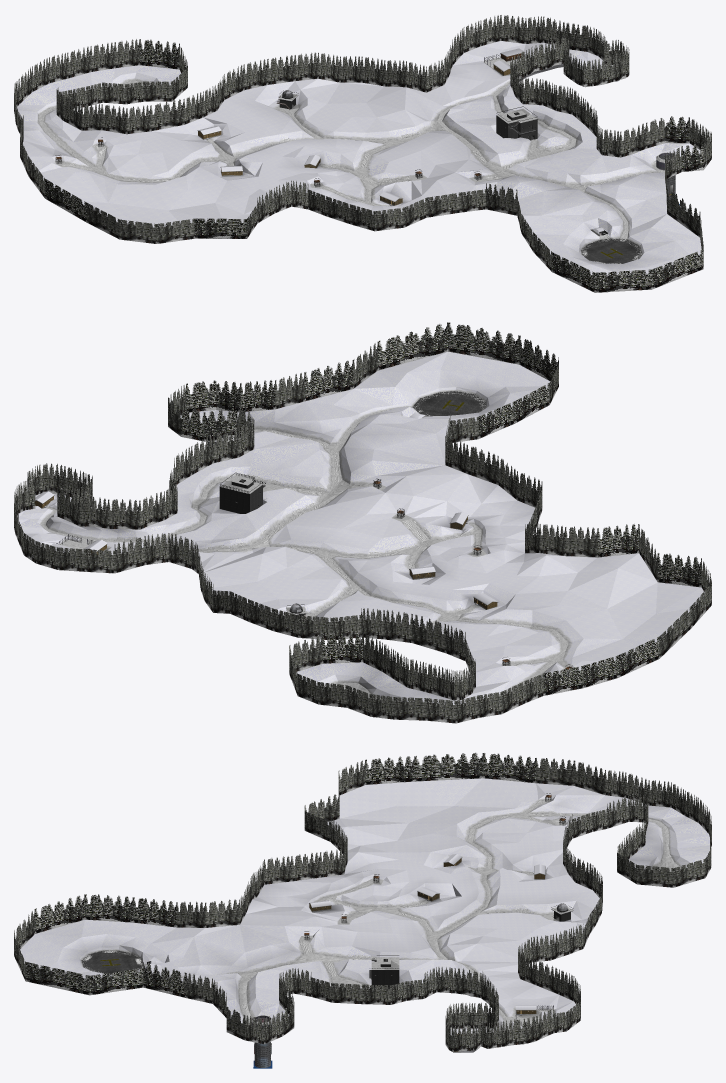
The picture shows the model from 3 angles, top to bottom: view 1: azimuth 30°, elevation 25°; view 2: azimuth 150°, elevation 25°; view 3: azimuth 270°, elevation 25°; orthographic projection. The views are drawn at different scales.
Visible parts, largest first — view 1: primary_Room07, primary_Room0F, primary_Room03, primary_Room08, primary_Room0C, primary_Room05, primary_Room0B, primary_Room0D, secondary_Room0F, primary_Room16, secondary_Room12, secondary_Room08 (+29 smaller); view 2: primary_Room08, primary_Room07, primary_Room0F, primary_Room0C, secondary_Room0F, primary_Room03, primary_Room0D, primary_Room16, primary_Room05, primary_Room0B, primary_Room04, secondary_Room12 (+25 smaller); view 3: primary_Room07, primary_Room08, primary_Room03, primary_Room0F, secondary_Room0F, primary_Room05, primary_Room0D, secondary_Room03, primary_Room0C, primary_Room04, primary_Room0B, primary_Room16 (+25 smaller).
Part boxes in pixels (x1,y1,x2,y2): primary_Room07: (217, 78, 406, 173); primary_Room0F: (523, 210, 701, 276); primary_Room03: (23, 130, 188, 210); primary_Room08: (274, 141, 476, 215); primary_Room0C: (409, 105, 596, 174); primary_Room05: (127, 111, 282, 189); primary_Room0B: (340, 66, 510, 142); primary_Room0D: (455, 148, 647, 199); secondary_Room0F: (517, 188, 703, 292); primary_Room16: (518, 172, 666, 221); secondary_Room12: (91, 39, 187, 104); secondary_Room08: (308, 169, 485, 231); primary_Room08: (323, 465, 536, 581); primary_Room07: (237, 542, 459, 622); primary_Room0F: (354, 351, 550, 440); primary_Room0C: (174, 457, 384, 541); secondary_Room0F: (353, 322, 558, 442); primary_Room03: (469, 610, 667, 686); primary_Room0D: (239, 422, 444, 492); primary_Room16: (243, 389, 446, 464); primary_Room05: (389, 582, 557, 652); primary_Room0B: (135, 530, 322, 597); primary_Room04: (532, 582, 704, 638); secondary_Room12: (289, 632, 407, 707); primary_Room07: (393, 875, 599, 944); primary_Room08: (240, 868, 432, 936); primary_Room03: (415, 778, 604, 848); primary_Room0F: (20, 919, 204, 978); secondary_Room0F: (14, 894, 205, 995); primary_Room05: (424, 833, 574, 889); primary_Room0D: (232, 925, 324, 1012); secondary_Room03: (415, 752, 606, 838); primary_Room0C: (313, 927, 421, 989); primary_Room04: (339, 781, 456, 836); primary_Room0B: (422, 933, 558, 1003); primary_Room16: (168, 925, 244, 1014).
Size of the model in its own units: 14314 by 1914 by 15616.
Materials: 77 (75 with a texture image).
